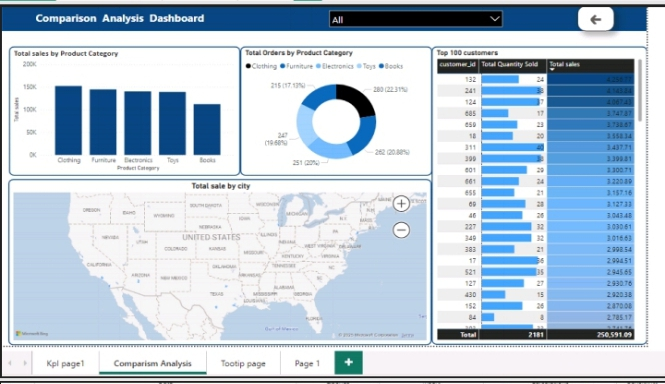

The page's visual inventory and layout, read from the dashboard file:
{"tool":"powerbi","page":{"name":"Comparism Analysis","canvas":[1280,720],"ordinal":1},"visuals":[{"type":"shape","box":[0,0,1280,53.7],"z":0},{"type":"textbox","box":[61.9,5.5,362,39.9],"z":1000},{"type":"clusteredColumnChart","fields":{"Category":["Sales data 2024.product_category"],"Y":["Sum(Sales data 2024.sales)"]},"box":[14.1,86.1,458.8,273.9],"z":2000},{"type":"donutChart","fields":{"Category":["Sales data 2024.product_category"],"Y":["CountNonNull(Sales data 2024.order_id)"]},"box":[472.9,86.1,381.2,273.9],"z":3000},{"type":"tableEx","title":"Top 100 customers","fields":{"Values":["Sales data 2024.customer_id","Sum(Sales data 2024.quantity_sold)","Sum(Sales data 2024.sales)"]},"box":[852.7,86.1,427.8,632.5],"z":4000},{"type":"filledMap","title":"Total sale  by city","fields":{"Category":["Sales data 2024.city"]},"box":[12.7,367.1,840,351.5],"z":5000},{"type":"slicer","fields":{"Values":["Sales data 2024.state"]},"box":[639.5,0,364.2,45.2],"z":6000},{"type":"actionButton","box":[1142.1,0,73.4,53.6],"z":7000}]}

Visuals, with their boxes on the page's 1280x720 design canvas (x1, y1, x2, y2). These are canvas units, not pixel positions in the 665x384 screenshot, which may show the page scaled, cropped or inside an application window:
shape: (x1=0, y1=0, x2=1280, y2=54)
textbox: (x1=62, y1=6, x2=424, y2=45)
clusteredColumnChart - Sales data 2024.product_category x Sum(Sales data 2024.sales): (x1=14, y1=86, x2=473, y2=360)
donutChart - Sales data 2024.product_category x CountNonNull(Sales data 2024.order_id): (x1=473, y1=86, x2=854, y2=360)
"Top 100 customers" tableEx: (x1=853, y1=86, x2=1280, y2=719)
"Total sale  by city" filledMap: (x1=13, y1=367, x2=853, y2=719)
slicer - Sales data 2024.state: (x1=640, y1=0, x2=1004, y2=45)
actionButton: (x1=1142, y1=0, x2=1216, y2=54)
